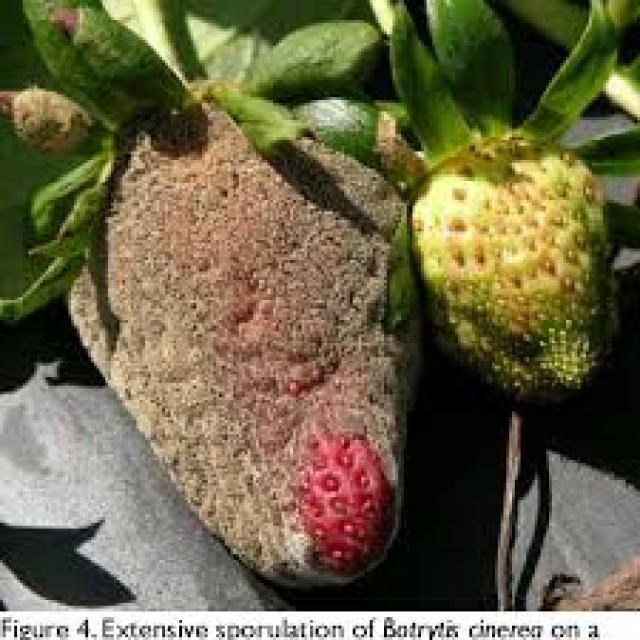Moho gris: (26, 68, 418, 577)
